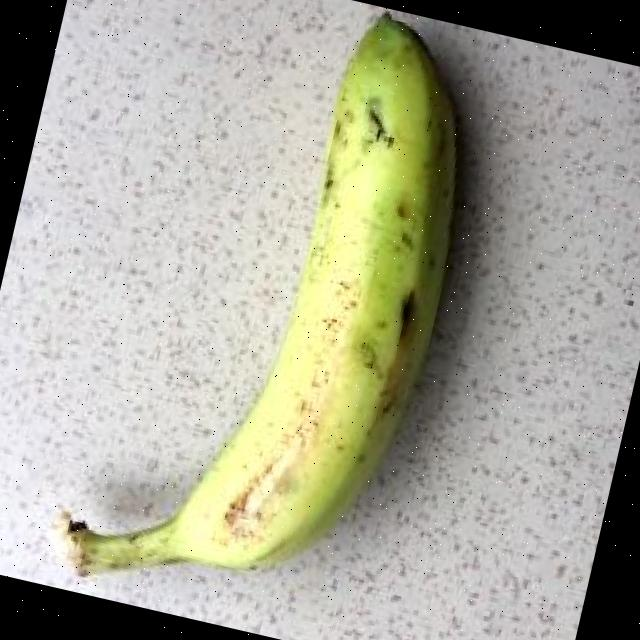banana: (54, 14, 453, 576)
